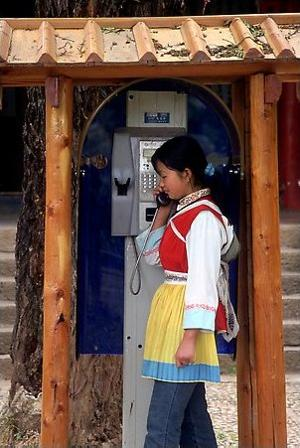person: (138, 134, 238, 448)
